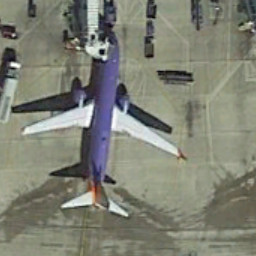Airplane: (10, 27, 198, 223)
